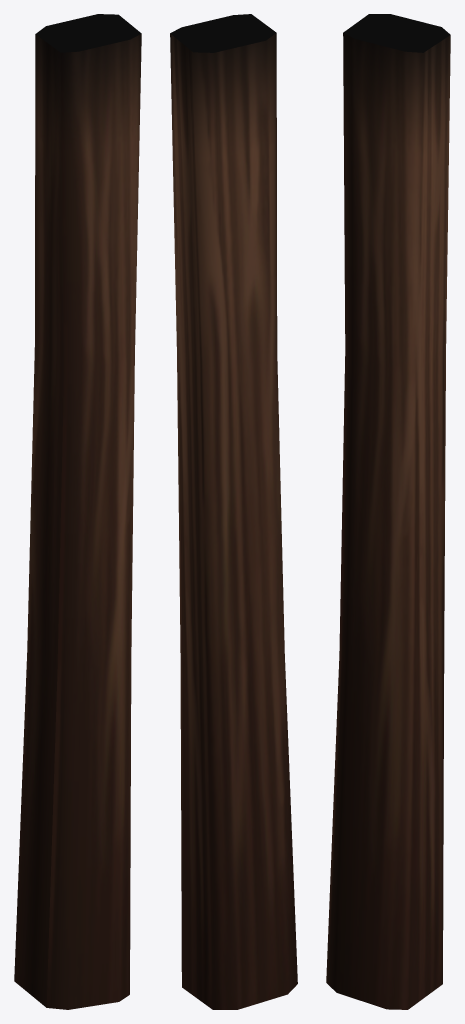
File: Mine_Wood_03.FBX
The picture shows the model from 3 angles, left to right: view 1: azimuth 30°, elevation 25°; view 2: azimuth 210°, elevation 25°; view 3: azimuth 330°, elevation 25°; orthographic projection.
Visible parts, largest first — view 1: Mine_Wood_03; view 2: Mine_Wood_03; view 3: Mine_Wood_03.
Part boxes in pixels (box(x1,y1,x2,y2)): Mine_Wood_03: box(14, 14, 141, 1009); Mine_Wood_03: box(170, 14, 297, 1009); Mine_Wood_03: box(326, 14, 450, 1009).
Bounding box in the file's own units: 0.5284 × 4.92 × 0.4372.
